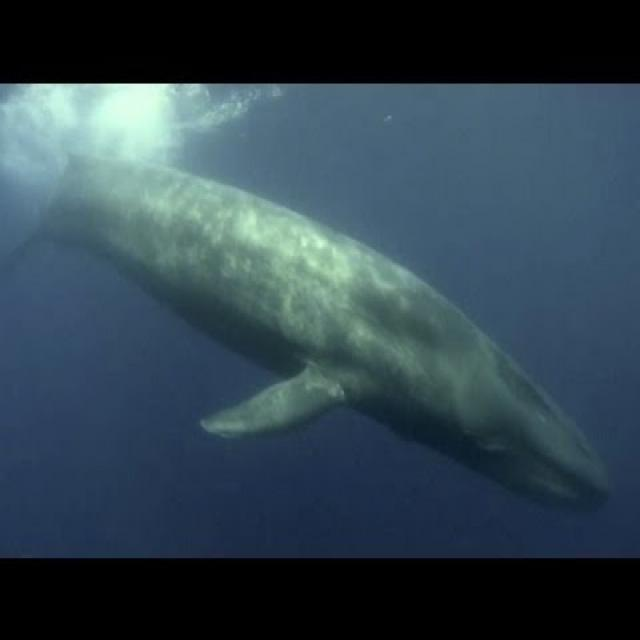blue_whale: (16, 98, 624, 532)
